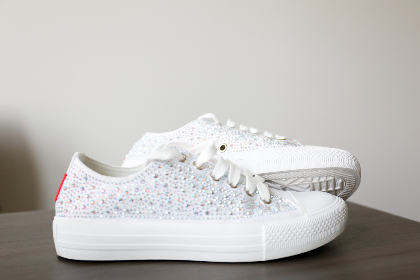Footwear: (51, 117, 379, 258)
